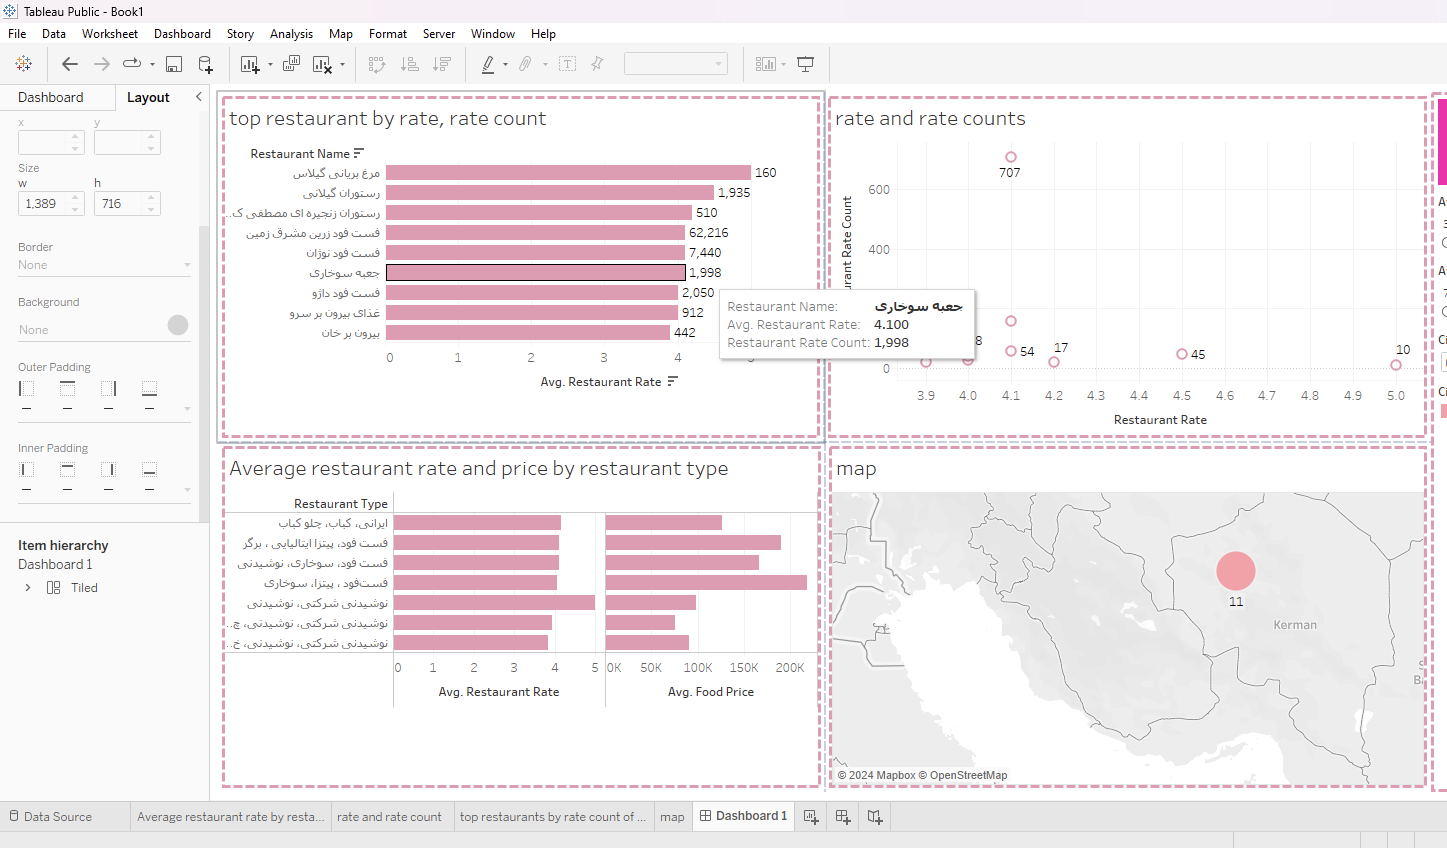

This screenshot's page, from the dashboard's own definition file:
{"tool":"powerbi","page":{"name":"Rates","canvas":[1280,720],"ordinal":1},"visuals":[{"type":"shape","box":[0,0,163.8,720],"z":0},{"type":"clusteredColumnChart","title":"Count of restaurants with different rates","fields":{"Category":["Snappfood.restaurant_rate"],"Y":["measure table.snappfood restaurant count"]},"box":[163.8,56.2,557.5,292.5],"z":1000},{"type":"image","box":[0,0,162.5,96.2],"z":2000},{"type":"multiRowCard","fields":{"Values":["measure table.average google restaurant rate","measure table.average snappfood restaurant rate","measure table.average rival restaurant rate"]},"box":[162.5,0,1117.5,56.2],"z":3000},{"type":"clusteredColumnChart","title":"total rate counts","fields":{"Y":["measure table.total rate count snappfood","measure table.total rate count rival","measure table.total rate count google"]},"box":[163.8,348.8,305,371.2],"z":4000},{"type":"slicer","fields":{"Values":["Snappfood.restaurant_rate"]},"box":[16.2,116.2,128.8,131.2],"z":5000},{"type":"actionButton","box":[20,543.8,122.5,68.8],"z":6000},{"type":"clusteredBarChart","title":"Top 10 restaurants by reviews count","fields":{"Category":["Snappfood.restaurant_name"],"Y":["Sum(Snappfood.restaurant_rate_count)"]},"box":[721.2,56.2,558.8,292.5],"z":7000},{"type":"clusteredBarChart","title":"Top 10 restaurants by rate","fields":{"Category":["Snappfood.restaurant_name"],"Y":["Avg(Snappfood.restaurant_rate)"]},"box":[468.8,348.8,386.2,371.2],"z":8000},{"type":"clusteredBarChart","title":"Top 10 restaurants by weighted rate","fields":{"Category":["Snappfood.restaurant_name"],"Y":["measure table.weighted rate"]},"box":[855,348.8,425,371.2],"z":9000},{"type":"actionButton","box":[7.5,640,150,50],"z":10000}]}

Visuals, with their boxes on the page's 1280x720 design canvas (x1, y1, x2, y2). These are canvas units, not pixel positions in the 1447x848 screenshot, which may show the page scaled, cropped or inside an application window:
shape: pyautogui.locateOnScreen(0, 0, 164, 720)
"Count of restaurants with different rates" clusteredColumnChart: pyautogui.locateOnScreen(164, 56, 721, 349)
image: pyautogui.locateOnScreen(0, 0, 162, 96)
multiRowCard - measure table.average google restaurant rate x measure table.average snappfood restaurant rate: pyautogui.locateOnScreen(162, 0, 1280, 56)
"total rate counts" clusteredColumnChart: pyautogui.locateOnScreen(164, 349, 469, 720)
slicer - Snappfood.restaurant_rate: pyautogui.locateOnScreen(16, 116, 145, 247)
actionButton: pyautogui.locateOnScreen(20, 544, 142, 613)
"Top 10 restaurants by reviews count" clusteredBarChart: pyautogui.locateOnScreen(721, 56, 1280, 349)
"Top 10 restaurants by rate" clusteredBarChart: pyautogui.locateOnScreen(469, 349, 855, 720)
"Top 10 restaurants by weighted rate" clusteredBarChart: pyautogui.locateOnScreen(855, 349, 1280, 720)
actionButton: pyautogui.locateOnScreen(8, 640, 158, 690)
